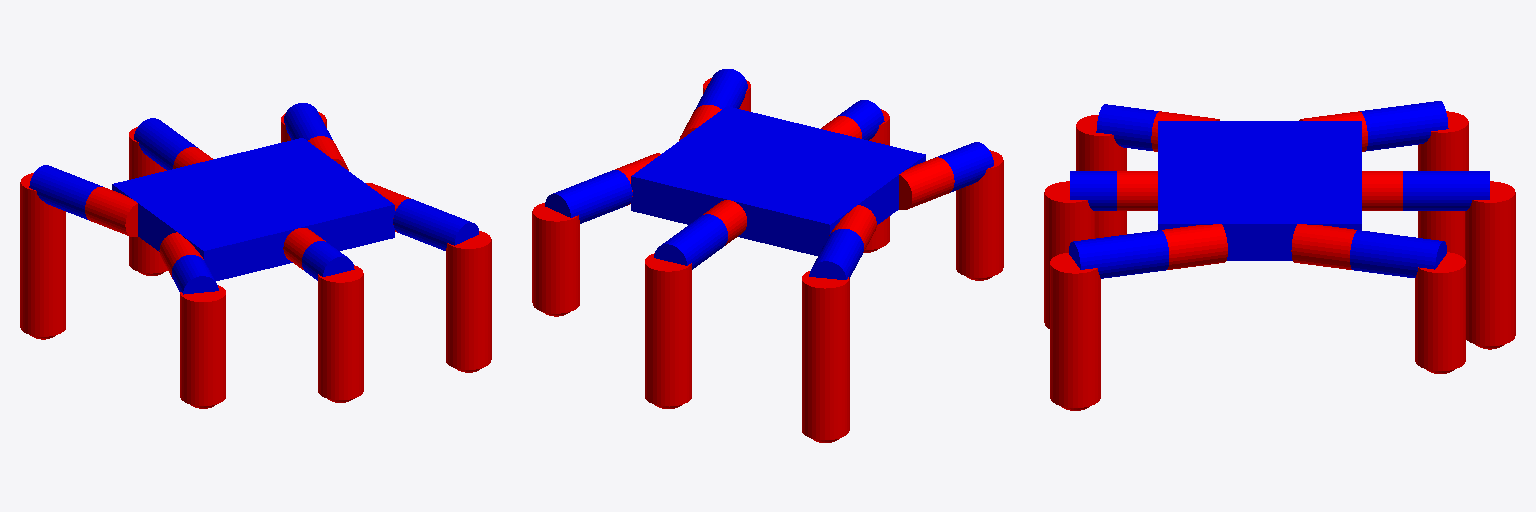
--- Facts derived from the render (not from the file) ---
Views: 3 orthographic renders of the robot side by side, from view 1: azimuth 30°, elevation 25°; view 2: azimuth 150°, elevation 25°; view 3: azimuth 270°, elevation 25°.
Model pexod with 19 links and 18 joints (18 revolute), rooted at base_link, posed every joint at zero.
Links seen in each view (by area): view 1: base_link, leg_0_3, leg_3_3, leg_4_3, leg_5_3, leg_3_2, leg_0_2, leg_0_1, leg_1_3, leg_1_2, leg_5_2, leg_4_2 (+3 smaller); view 2: base_link, leg_0_3, leg_1_3, leg_5_3, leg_2_3, leg_2_2, leg_1_2, leg_5_1, leg_0_2, leg_5_2, leg_3_2, leg_4_2 (+5 smaller); view 3: base_link, leg_1_3, leg_3_3, leg_2_3, leg_0_3, leg_3_2, leg_2_2, leg_1_2, leg_4_3, leg_0_2, leg_5_3, leg_3_1 (+7 smaller).
Link boxes in pixels (x1,y1,x2,y2): base_link: (112,138,394,280); leg_0_3: (20,173,65,339); leg_3_3: (446,231,491,372); leg_4_3: (318,265,363,402); leg_5_3: (180,285,225,408); leg_3_2: (393,199,478,250); leg_0_2: (29,165,102,220); leg_0_1: (85,187,137,236); leg_1_3: (129,127,167,275); leg_1_2: (134,118,197,170); leg_5_2: (172,255,218,294); leg_4_2: (302,241,354,280); base_link: (631,106,925,255); leg_0_3: (802,271,849,442); leg_1_3: (645,253,691,408); leg_5_3: (956,150,1003,280); leg_2_3: (532,203,579,316); leg_2_2: (545,170,632,223); leg_1_2: (654,214,727,269); leg_5_1: (899,157,954,209); leg_0_2: (809,229,863,279); leg_5_2: (935,142,993,192); leg_3_2: (694,69,747,110); leg_4_2: (837,100,884,140); base_link: (1158,121,1361,260); leg_1_3: (1465,181,1515,349); leg_3_3: (1050,253,1100,410); leg_2_3: (1415,252,1465,373); leg_0_3: (1418,111,1468,258); leg_3_2: (1069,230,1168,278); leg_2_2: (1350,230,1446,277); leg_1_2: (1403,171,1489,210); leg_4_3: (1044,181,1094,328); leg_0_2: (1360,101,1448,151); leg_5_3: (1076,115,1126,238); leg_3_1: (1162,224,1227,269).
Bounding box of the posed robot: 0.3765 × 0.4617 × 0.2074 m (x, y, z).
Geometry: primitives only (box / cylinder / sphere), no mesh files.

robot.urdf — pexod:
<?xml version="1.0" ?>
<!-- =================================================================================== -->
<!-- |    This document was autogenerated by xacro from pexod.xacro                    | -->
<!-- |    EDITING THIS FILE BY HAND IS NOT RECOMMENDED                                 | -->
<!-- =================================================================================== -->
<robot name="pexod" xmlns:xacro="http://www.ros.org/wiki/xacro">
  <!-- <xacro:include filename="$(find pexod_description)/urdf/pexod_control.xacro" /> -->
  <!-- MATERIALS -->
  <material name="Blue">
    <color rgba="0 0 1 1"/>
  </material>
  <material name="Red">
    <color rgba="1 0 0 1"/>
  </material>
  <material name="Green">
    <color rgba="0 1 0 1"/>
  </material>
  <material name="Yellow">
    <color rgba="1 1 0 1"/>
  </material>
  <material name="LightGrey">
    <color rgba="0.6 0.6 0.6 1.0"/>
  </material>
  <!-- END OF MATERIALS -->
  <!-- XACRO MACROS FOR VISUALS AND COLLISIONS -->
  <!-- END OF XACRO MACROS -->
  <!-- TORSO -->
  <link name="base_link">
    <visual>
      <origin rpy="0 0 0" xyz="0 0 0"/>
      <geometry>
        <box size="0.24 0.2 0.04"/>
      </geometry>
      <material name="Blue"/>
    </visual>
    <collision>
      <origin rpy="0 0 0" xyz="0 0 0"/>
      <geometry>
        <box size="0.24 0.2 0.04"/>
      </geometry>
    </collision>
    <inertial>
      <!-- CENTER OF MASS -->
      <origin rpy="0 0 0" xyz="0 0 0"/>
      <mass value="1.031"/>
      <!-- box inertia: 1/12*m(y^2+z^2), ... -->
      <inertia ixx="0.00357413333333" ixy="0" ixz="0" iyy="0.00508626666667" iyz="0" izz="0.00838546666667"/>
    </inertial>
  </link>
  <!-- XACRO MACRO FOR LEGS LINKS/JOINTS -->
  <!-- END OF LEG LINKS/JOINTS -->
  <joint name="body_leg_2" type="revolute">
    <parent link="base_link"/>
    <child link="leg_2_1"/>
    <limit effort="30.0" lower="-1.57079632679" upper="1.57079632679" velocity="7.0"/>
    <origin rpy="0 0 -0.3" xyz="0.11 0.04 0"/>
    <!-- <xacro:if value="${index == 5 or index == 4 or index == 3}">
                <axis xyz="0 0 1"/>
            </xacro:if>
            <xacro:if value="${index == 2 or index == 1 or index == 0}"> -->
    <axis xyz="0 0 1"/>
    <!-- </xacro:if> -->
    <dynamics damping="0.0"/>
  </joint>
  <link name="leg_2_1">
    <visual>
      <origin rpy="1.57079632679 0 0" xyz="0.01 0.03 0"/>
      <geometry>
        <cylinder length="0.06" radius="0.02"/>
      </geometry>
      <material name="Red"/>
    </visual>
    <collision>
      <origin rpy="1.57079632679 0 0" xyz="0.01 0.03 0"/>
      <geometry>
        <box size="0.02 0.02 0.06"/>
      </geometry>
    </collision>
    <inertial>
      <!-- CENTER OF MASS -->
      <origin rpy="1.57079632679 0 0" xyz="0.01 0.03 0"/>
      <mass value="0.02"/>
      <!-- box inertia: 1/12*m(y^2+z^2), ... -->
      <inertia ixx="6.66666666667e-06" ixy="0" ixz="0" iyy="6.66666666667e-06" iyz="0" izz="1.33333333333e-06"/>
    </inertial>
  </link>
  <joint name="leg_2_1_2" type="revolute">
    <parent link="leg_2_1"/>
    <child link="leg_2_2"/>
    <limit effort="30.0" lower="-0.78539816339" upper="0.78539816339" velocity="7.0"/>
    <origin rpy="0 0 0" xyz="0 0.06 0"/>
    <axis xyz="1 0 0"/>
    <dynamics damping="0.0"/>
  </joint>
  <link name="leg_2_2">
    <visual>
      <origin rpy="1.57079632679 0 0" xyz="0.01 0.043771326985 0"/>
      <geometry>
        <cylinder length="0.08754265397" radius="0.02"/>
      </geometry>
      <material name="Blue"/>
    </visual>
    <collision>
      <origin rpy="1.57079632679 0 0" xyz="0.01 0.043771326985 0"/>
      <geometry>
        <box size="0.02 0.02 0.08754265397"/>
      </geometry>
    </collision>
    <inertial>
      <!-- CENTER OF MASS -->
      <origin rpy="1.57079632679 0 0" xyz="0.01 0.043771326985 0"/>
      <mass value="0.184"/>
      <!-- box inertia: 1/12*m(y^2+z^2), ... -->
      <inertia ixx="0.000123643649383" ixy="0" ixz="0" iyy="0.000123643649383" iyz="0" izz="1.22666666667e-05"/>
    </inertial>
  </link>
  <joint name="leg_2_2_3" type="revolute">
    <parent link="leg_2_2"/>
    <child link="leg_2_3"/>
    <limit effort="30.0" lower="-0.78539816339" upper="0.78539816339" velocity="7.0"/>
    <origin rpy="-1.57079632679 0 0" xyz="0 0.08754265397 0"/>
    <axis xyz="-1 0 0"/>
    <dynamics damping="0.0"/>
  </joint>
  <link name="leg_2_3">
    <visual>
      <origin rpy="1.57079632679 0 0" xyz="0.0125 0.053026570142 0"/>
      <geometry>
        <cylinder length="0.106053140284" radius="0.025"/>
      </geometry>
      <material name="Red"/>
    </visual>
    <visual>
      <origin rpy="1.57079632679 0 0" xyz="0.0125 0.093553140284 0"/>
      <geometry>
        <sphere radius="0.025"/>
      </geometry>
      <material name="Red"/>
    </visual>
    <collision>
      <origin rpy="1.57079632679 0 0" xyz="0.0125 0.053026570142 0"/>
      <geometry>
        <box size="0.025 0.025 0.106053140284"/>
      </geometry>
    </collision>
    <collision>
      <origin rpy="1.57079632679 0 0" xyz="0.0125 0.093553140284 0"/>
      <geometry>
        <sphere radius="0.025"/>
      </geometry>
      <material name="Red"/>
    </collision>
    <inertial>
      <!-- CENTER OF MASS -->
      <origin rpy="1.57079632679 0 0" xyz="0.0125 0.053026570142 0"/>
      <mass value="0.04"/>
      <!-- box inertia: 1/12*m(y^2+z^2), ... -->
      <inertia ixx="3.9574228547e-05" ixy="0" ixz="0" iyy="3.9574228547e-05" iyz="0" izz="4.16666666667e-06"/>
    </inertial>
  </link>
  <joint name="body_leg_3" type="revolute">
    <parent link="base_link"/>
    <child link="leg_3_1"/>
    <limit effort="30.0" lower="-1.57079632679" upper="1.57079632679" velocity="7.0"/>
    <origin rpy="0 0 0.3" xyz="0.11 -0.04 0"/>
    <!-- <xacro:if value="${index == 5 or index == 4 or index == 3}">
                <axis xyz="0 0 1"/>
            </xacro:if>
            <xacro:if value="${index == 2 or index == 1 or index == 0}"> -->
    <axis xyz="0 0 1"/>
    <!-- </xacro:if> -->
    <dynamics damping="0.0"/>
  </joint>
  <link name="leg_3_1">
    <visual>
      <origin rpy="1.57079632679 0 0" xyz="0.01 -0.03 0"/>
      <geometry>
        <cylinder length="0.06" radius="0.02"/>
      </geometry>
      <material name="Red"/>
    </visual>
    <collision>
      <origin rpy="1.57079632679 0 0" xyz="0.01 -0.03 0"/>
      <geometry>
        <box size="0.02 0.02 0.06"/>
      </geometry>
    </collision>
    <inertial>
      <!-- CENTER OF MASS -->
      <origin rpy="1.57079632679 0 0" xyz="0.01 -0.03 0"/>
      <mass value="0.02"/>
      <!-- box inertia: 1/12*m(y^2+z^2), ... -->
      <inertia ixx="6.66666666667e-06" ixy="0" ixz="0" iyy="6.66666666667e-06" iyz="0" izz="1.33333333333e-06"/>
    </inertial>
  </link>
  <joint name="leg_3_1_2" type="revolute">
    <parent link="leg_3_1"/>
    <child link="leg_3_2"/>
    <limit effort="30.0" lower="-0.78539816339" upper="0.78539816339" velocity="7.0"/>
    <origin rpy="0 0 0" xyz="0 -0.06 0"/>
    <axis xyz="-1 0 0"/>
    <dynamics damping="0.0"/>
  </joint>
  <link name="leg_3_2">
    <visual>
      <origin rpy="1.57079632679 0 0" xyz="0.01 -0.0454777377633 0"/>
      <geometry>
        <cylinder length="0.0909554755265" radius="0.02"/>
      </geometry>
      <material name="Blue"/>
    </visual>
    <collision>
      <origin rpy="1.57079632679 0 0" xyz="0.01 -0.0454777377633 0"/>
      <geometry>
        <box size="0.02 0.02 0.0909554755265"/>
      </geometry>
    </collision>
    <inertial>
      <!-- CENTER OF MASS -->
      <origin rpy="1.57079632679 0 0" xyz="0.01 -0.0454777377633 0"/>
      <mass value="0.184"/>
      <!-- box inertia: 1/12*m(y^2+z^2), ... -->
      <inertia ixx="0.0001329844441" ixy="0" ixz="0" iyy="0.0001329844441" iyz="0" izz="1.22666666667e-05"/>
    </inertial>
  </link>
  <joint name="leg_3_2_3" type="revolute">
    <parent link="leg_3_2"/>
    <child link="leg_3_3"/>
    <limit effort="30.0" lower="-0.78539816339" upper="0.78539816339" velocity="7.0"/>
    <origin rpy="1.57079632679 0 0" xyz="0 -0.0909554755265 0"/>
    <axis xyz="1 0 0"/>
    <dynamics damping="0.0"/>
  </joint>
  <link name="leg_3_3">
    <visual>
      <origin rpy="1.57079632679 0 0" xyz="0.0125 -0.0727499873925 0"/>
      <geometry>
        <cylinder length="0.145499974785" radius="0.025"/>
      </geometry>
      <material name="Red"/>
    </visual>
    <visual>
      <origin rpy="1.57079632679 0 0" xyz="0.0125 -0.132999974785 0"/>
      <geometry>
        <sphere radius="0.025"/>
      </geometry>
      <material name="Red"/>
    </visual>
    <collision>
      <origin rpy="1.57079632679 0 0" xyz="0.0125 -0.0727499873925 0"/>
      <geometry>
        <box size="0.025 0.025 0.145499974785"/>
      </geometry>
    </collision>
    <collision>
      <origin rpy="1.57079632679 0 0" xyz="0.0125 -0.132999974785 0"/>
      <geometry>
        <sphere radius="0.025"/>
      </geometry>
      <material name="Red"/>
    </collision>
    <inertial>
      <!-- CENTER OF MASS -->
      <origin rpy="1.57079632679 0 0" xyz="0.0125 -0.0727499873925 0"/>
      <mass value="0.04"/>
      <!-- box inertia: 1/12*m(y^2+z^2), ... -->
      <inertia ixx="7.26508088748e-05" ixy="0" ixz="0" iyy="7.26508088748e-05" iyz="0" izz="4.16666666667e-06"/>
    </inertial>
  </link>
  <joint name="body_leg_0" type="revolute">
    <parent link="base_link"/>
    <child link="leg_0_1"/>
    <limit effort="30.0" lower="-1.57079632679" upper="1.57079632679" velocity="7.0"/>
    <origin rpy="0 0 0.3" xyz="-0.13 0.04 0"/>
    <!-- <xacro:if value="${index == 5 or index == 4 or index == 3}">
                <axis xyz="0 0 1"/>
            </xacro:if>
            <xacro:if value="${index == 2 or index == 1 or index == 0}"> -->
    <axis xyz="0 0 1"/>
    <!-- </xacro:if> -->
    <dynamics damping="0.0"/>
  </joint>
  <link name="leg_0_1">
    <visual>
      <origin rpy="1.57079632679 0 0" xyz="0.01 0.03 0"/>
      <geometry>
        <cylinder length="0.06" radius="0.02"/>
      </geometry>
      <material name="Red"/>
    </visual>
    <collision>
      <origin rpy="1.57079632679 0 0" xyz="0.01 0.03 0"/>
      <geometry>
        <box size="0.02 0.02 0.06"/>
      </geometry>
    </collision>
    <inertial>
      <!-- CENTER OF MASS -->
      <origin rpy="1.57079632679 0 0" xyz="0.01 0.03 0"/>
      <mass value="0.02"/>
      <!-- box inertia: 1/12*m(y^2+z^2), ... -->
      <inertia ixx="6.66666666667e-06" ixy="0" ixz="0" iyy="6.66666666667e-06" iyz="0" izz="1.33333333333e-06"/>
    </inertial>
  </link>
  <joint name="leg_0_1_2" type="revolute">
    <parent link="leg_0_1"/>
    <child link="leg_0_2"/>
    <limit effort="30.0" lower="-0.78539816339" upper="0.78539816339" velocity="7.0"/>
    <origin rpy="0 0 0" xyz="0 0.06 0"/>
    <axis xyz="1 0 0"/>
    <dynamics damping="0.0"/>
  </joint>
  <link name="leg_0_2">
    <visual>
      <origin rpy="1.57079632679 0 0" xyz="0.01 0.0412991480834 0"/>
      <geometry>
        <cylinder length="0.0825982961667" radius="0.02"/>
      </geometry>
      <material name="Blue"/>
    </visual>
    <collision>
      <origin rpy="1.57079632679 0 0" xyz="0.01 0.0412991480834 0"/>
      <geometry>
        <box size="0.02 0.02 0.0825982961667"/>
      </geometry>
    </collision>
    <inertial>
      <!-- CENTER OF MASS -->
      <origin rpy="1.57079632679 0 0" xyz="0.01 0.0412991480834 0"/>
      <mass value="0.184"/>
      <!-- box inertia: 1/12*m(y^2+z^2), ... -->
      <inertia ixx="0.000110744670788" ixy="0" ixz="0" iyy="0.000110744670788" iyz="0" izz="1.22666666667e-05"/>
    </inertial>
  </link>
  <joint name="leg_0_2_3" type="revolute">
    <parent link="leg_0_2"/>
    <child link="leg_0_3"/>
    <limit effort="30.0" lower="-0.78539816339" upper="0.78539816339" velocity="7.0"/>
    <origin rpy="-1.57079632679 0 0" xyz="0 0.0825982961667 0"/>
    <axis xyz="-1 0 0"/>
    <dynamics damping="0.0"/>
  </joint>
  <link name="leg_0_3">
    <visual>
      <origin rpy="1.57079632679 0 0" xyz="0.0125 0.0874332761605 0"/>
      <geometry>
        <cylinder length="0.174866552321" radius="0.025"/>
      </geometry>
      <material name="Red"/>
    </visual>
    <visual>
      <origin rpy="1.57079632679 0 0" xyz="0.0125 0.162366552321 0"/>
      <geometry>
        <sphere radius="0.025"/>
      </geometry>
      <material name="Red"/>
    </visual>
    <collision>
      <origin rpy="1.57079632679 0 0" xyz="0.0125 0.0874332761605 0"/>
      <geometry>
        <box size="0.025 0.025 0.174866552321"/>
      </geometry>
    </collision>
    <collision>
      <origin rpy="1.57079632679 0 0" xyz="0.0125 0.162366552321 0"/>
      <geometry>
        <sphere radius="0.025"/>
      </geometry>
      <material name="Red"/>
    </collision>
    <inertial>
      <!-- CENTER OF MASS -->
      <origin rpy="1.57079632679 0 0" xyz="0.0125 0.0874332761605 0"/>
      <mass value="0.04"/>
      <!-- box inertia: 1/12*m(y^2+z^2), ... -->
      <inertia ixx="0.000104011037069" ixy="0" ixz="0" iyy="0.000104011037069" iyz="0" izz="4.16666666667e-06"/>
    </inertial>
  </link>
  <joint name="body_leg_5" type="revolute">
    <parent link="base_link"/>
    <child link="leg_5_1"/>
    <limit effort="30.0" lower="-1.57079632679" upper="1.57079632679" velocity="7.0"/>
    <origin rpy="0 0 -0.3" xyz="-0.13 -0.04 0"/>
    <!-- <xacro:if value="${index == 5 or index == 4 or index == 3}">
                <axis xyz="0 0 1"/>
            </xacro:if>
            <xacro:if value="${index == 2 or index == 1 or index == 0}"> -->
    <axis xyz="0 0 1"/>
    <!-- </xacro:if> -->
    <dynamics damping="0.0"/>
  </joint>
  <link name="leg_5_1">
    <visual>
      <origin rpy="1.57079632679 0 0" xyz="0.01 -0.03 0"/>
      <geometry>
        <cylinder length="0.06" radius="0.02"/>
      </geometry>
      <material name="Red"/>
    </visual>
    <collision>
      <origin rpy="1.57079632679 0 0" xyz="0.01 -0.03 0"/>
      <geometry>
        <box size="0.02 0.02 0.06"/>
      </geometry>
    </collision>
    <inertial>
      <!-- CENTER OF MASS -->
      <origin rpy="1.57079632679 0 0" xyz="0.01 -0.03 0"/>
      <mass value="0.02"/>
      <!-- box inertia: 1/12*m(y^2+z^2), ... -->
      <inertia ixx="6.66666666667e-06" ixy="0" ixz="0" iyy="6.66666666667e-06" iyz="0" izz="1.33333333333e-06"/>
    </inertial>
  </link>
  <joint name="leg_5_1_2" type="revolute">
    <parent link="leg_5_1"/>
    <child link="leg_5_2"/>
    <limit effort="30.0" lower="-0.78539816339" upper="0.78539816339" velocity="7.0"/>
    <origin rpy="0 0 0" xyz="0 -0.06 0"/>
    <axis xyz="-1 0 0"/>
    <dynamics damping="0.0"/>
  </joint>
  <link name="leg_5_2">
    <visual>
      <origin rpy="1.57079632679 0 0" xyz="0.01 -0.0281787201831 0"/>
      <geometry>
        <cylinder length="0.0563574403662" radius="0.02"/>
      </geometry>
      <material name="Blue"/>
    </visual>
    <collision>
      <origin rpy="1.57079632679 0 0" xyz="0.01 -0.0281787201831 0"/>
      <geometry>
        <box size="0.02 0.02 0.0563574403662"/>
      </geometry>
    </collision>
    <inertial>
      <!-- CENTER OF MASS -->
      <origin rpy="1.57079632679 0 0" xyz="0.01 -0.0281787201831 0"/>
      <mass value="0.184"/>
      <!-- box inertia: 1/12*m(y^2+z^2), ... -->
      <inertia ixx="5.48344699643e-05" ixy="0" ixz="0" iyy="5.48344699643e-05" iyz="0" izz="1.22666666667e-05"/>
    </inertial>
  </link>
  <joint name="leg_5_2_3" type="revolute">
    <parent link="leg_5_2"/>
    <child link="leg_5_3"/>
    <limit effort="30.0" lower="-0.78539816339" upper="0.78539816339" velocity="7.0"/>
    <origin rpy="1.57079632679 0 0" xyz="0 -0.0563574403662 0"/>
    <axis xyz="1 0 0"/>
    <dynamics damping="0.0"/>
  </joint>
  <link name="leg_5_3">
    <visual>
      <origin rpy="1.57079632679 0 0" xyz="0.0125 -0.062460561118 0"/>
      <geometry>
        <cylinder length="0.124921122236" radius="0.025"/>
      </geometry>
      <material name="Red"/>
    </visual>
    <visual>
      <origin rpy="1.57079632679 0 0" xyz="0.0125 -0.112421122236 0"/>
      <geometry>
        <sphere radius="0.025"/>
      </geometry>
      <material name="Red"/>
    </visual>
    <collision>
      <origin rpy="1.57079632679 0 0" xyz="0.0125 -0.062460561118 0"/>
      <geometry>
        <box size="0.025 0.025 0.124921122236"/>
      </geometry>
    </collision>
    <collision>
      <origin rpy="1.57079632679 0 0" xyz="0.0125 -0.112421122236 0"/>
      <geometry>
        <sphere radius="0.025"/>
      </geometry>
      <material name="Red"/>
    </collision>
    <inertial>
      <!-- CENTER OF MASS -->
      <origin rpy="1.57079632679 0 0" xyz="0.0125 -0.062460561118 0"/>
      <mass value="0.04"/>
      <!-- box inertia: 1/12*m(y^2+z^2), ... -->
      <inertia ixx="5.41009559357e-05" ixy="0" ixz="0" iyy="5.41009559357e-05" iyz="0" izz="4.16666666667e-06"/>
    </inertial>
  </link>
  <joint name="body_leg_1" type="revolute">
    <parent link="base_link"/>
    <child link="leg_1_1"/>
    <limit effort="30.0" lower="-1.57079632679" upper="1.57079632679" velocity="7.0"/>
    <origin rpy="0 0 0" xyz="-0.01 0.08 0"/>
    <!-- <xacro:if value="${index == 5 or index == 4 or index == 3}">
                <axis xyz="0 0 1"/>
            </xacro:if>
            <xacro:if value="${index == 2 or index == 1 or index == 0}"> -->
    <axis xyz="0 0 1"/>
    <!-- </xacro:if> -->
    <dynamics damping="0.0"/>
  </joint>
  <link name="leg_1_1">
    <visual>
      <origin rpy="1.57079632679 0 0" xyz="0.01 0.03 0"/>
      <geometry>
        <cylinder length="0.06" radius="0.02"/>
      </geometry>
      <material name="Red"/>
    </visual>
    <collision>
      <origin rpy="1.57079632679 0 0" xyz="0.01 0.03 0"/>
      <geometry>
        <box size="0.02 0.02 0.06"/>
      </geometry>
    </collision>
    <inertial>
      <!-- CENTER OF MASS -->
      <origin rpy="1.57079632679 0 0" xyz="0.01 0.03 0"/>
      <mass value="0.02"/>
      <!-- box inertia: 1/12*m(y^2+z^2), ... -->
      <inertia ixx="6.66666666667e-06" ixy="0" ixz="0" iyy="6.66666666667e-06" iyz="0" izz="1.33333333333e-06"/>
    </inertial>
  </link>
  <joint name="leg_1_1_2" type="revolute">
    <parent link="leg_1_1"/>
    <child link="leg_1_2"/>
    <limit effort="30.0" lower="-0.78539816339" upper="0.78539816339" velocity="7.0"/>
    <origin rpy="0 0 0" xyz="0 0.06 0"/>
    <axis xyz="1 0 0"/>
    <dynamics damping="0.0"/>
  </joint>
  <link name="leg_1_2">
    <visual>
      <origin rpy="1.57079632679 0 0" xyz="0.01 0.0428769458217 0"/>
      <geometry>
        <cylinder length="0.0857538916434" radius="0.02"/>
      </geometry>
      <material name="Blue"/>
    </visual>
    <collision>
      <origin rpy="1.57079632679 0 0" xyz="0.01 0.0428769458217 0"/>
      <geometry>
        <box size="0.02 0.02 0.0857538916434"/>
      </geometry>
    </collision>
    <inertial>
      <!-- CENTER OF MASS -->
      <origin rpy="1.57079632679 0 0" xyz="0.01 0.0428769458217 0"/>
      <mass value="0.184"/>
      <!-- box inertia: 1/12*m(y^2+z^2), ... -->
      <inertia ixx="0.000118890525624" ixy="0" ixz="0" iyy="0.000118890525624" iyz="0" izz="1.22666666667e-05"/>
    </inertial>
  </link>
  <joint name="leg_1_2_3" type="revolute">
    <parent link="leg_1_2"/>
    <child link="leg_1_3"/>
    <limit effort="30.0" lower="-0.78539816339" upper="0.78539816339" velocity="7.0"/>
    <origin rpy="-1.57079632679 0 0" xyz="0 0.0857538916434 0"/>
    <axis xyz="-1 0 0"/>
    <dynamics damping="0.0"/>
  </joint>
  <link name="leg_1_3">
    <visual>
      <origin rpy="1.57079632679 0 0" xyz="0.0125 0.0776279560145 0"/>
      <geometry>
        <cylinder length="0.155255912029" radius="0.025"/>
      </geometry>
      <material name="Red"/>
    </visual>
    <visual>
      <origin rpy="1.57079632679 0 0" xyz="0.0125 0.142755912029 0"/>
      <geometry>
        <sphere radius="0.025"/>
      </geometry>
      <material name="Red"/>
    </visual>
    <collision>
      <origin rpy="1.57079632679 0 0" xyz="0.0125 0.0776279560145 0"/>
      <geometry>
        <box size="0.025 0.025 0.155255912029"/>
      </geometry>
    </collision>
    <collision>
      <origin rpy="1.57079632679 0 0" xyz="0.0125 0.142755912029 0"/>
      <geometry>
        <sphere radius="0.025"/>
      </geometry>
      <material name="Red"/>
    </collision>
    <inertial>
      <!-- CENTER OF MASS -->
      <origin rpy="1.57079632679 0 0" xyz="0.0125 0.0776279560145 0"/>
      <mass value="0.04"/>
      <!-- box inertia: 1/12*m(y^2+z^2), ... -->
      <inertia ixx="8.24313273999e-05" ixy="0" ixz="0" iyy="8.24313273999e-05" iyz="0" izz="4.16666666667e-06"/>
    </inertial>
  </link>
  <joint name="body_leg_4" type="revolute">
    <parent link="base_link"/>
    <child link="leg_4_1"/>
    <limit effort="30.0" lower="-1.57079632679" upper="1.57079632679" velocity="7.0"/>
    <origin rpy="0 0 0" xyz="-0.01 -0.08 0"/>
    <!-- <xacro:if value="${index == 5 or index == 4 or index == 3}">
                <axis xyz="0 0 1"/>
            </xacro:if>
            <xacro:if value="${index == 2 or index == 1 or index == 0}"> -->
    <axis xyz="0 0 1"/>
    <!-- </xacro:if> -->
    <dynamics damping="0.0"/>
  </joint>
  <link name="leg_4_1">
    <visual>
      <origin rpy="1.57079632679 0 0" xyz="0.01 -0.03 0"/>
      <geometry>
        <cylinder length="0.06" radius="0.02"/>
      </geometry>
      <material name="Red"/>
    </visual>
    <collision>
      <origin rpy="1.57079632679 0 0" xyz="0.01 -0.03 0"/>
      <geometry>
        <box size="0.02 0.02 0.06"/>
      </geometry>
    </collision>
    <inertial>
      <!-- CENTER OF MASS -->
      <origin rpy="1.57079632679 0 0" xyz="0.01 -0.03 0"/>
      <mass value="0.02"/>
      <!-- box inertia: 1/12*m(y^2+z^2), ... -->
      <inertia ixx="6.66666666667e-06" ixy="0" ixz="0" iyy="6.66666666667e-06" iyz="0" izz="1.33333333333e-06"/>
    </inertial>
  </link>
  <joint name="leg_4_1_2" type="revolute">
    <parent link="leg_4_1"/>
    <child link="leg_4_2"/>
    <limit effort="30.0" lower="-0.78539816339" upper="0.78539816339" velocity="7.0"/>
    <origin rpy="0 0 0" xyz="0 -0.06 0"/>
    <axis xyz="-1 0 0"/>
    <dynamics damping="0.0"/>
  </joint>
  <link name="leg_4_2">
    <visual>
      <origin rpy="1.57079632679 0 0" xyz="0.01 -0.0229813019627 0"/>
      <geometry>
        <cylinder length="0.0459626039254" radius="0.02"/>
      </geometry>
      <material name="Blue"/>
    </visual>
    <collision>
      <origin rpy="1.57079632679 0 0" xyz="0.01 -0.0229813019627 0"/>
      <geometry>
        <box size="0.02 0.02 0.0459626039254"/>
      </geometry>
    </collision>
    <inertial>
      <!-- CENTER OF MASS -->
      <origin rpy="1.57079632679 0 0" xyz="0.01 -0.0229813019627 0"/>
      <mass value="0.184"/>
      <!-- box inertia: 1/12*m(y^2+z^2), ... -->
      <inertia ixx="3.85259347139e-05" ixy="0" ixz="0" iyy="3.85259347139e-05" iyz="0" izz="1.22666666667e-05"/>
    </inertial>
  </link>
  <joint name="leg_4_2_3" type="revolute">
    <parent link="leg_4_2"/>
    <child link="leg_4_3"/>
    <limit effort="30.0" lower="-0.78539816339" upper="0.78539816339" velocity="7.0"/>
    <origin rpy="1.57079632679 0 0" xyz="0 -0.0459626039254 0"/>
    <axis xyz="1 0 0"/>
    <dynamics damping="0.0"/>
  </joint>
  <link name="leg_4_3">
    <visual>
      <origin rpy="1.57079632679 0 0" xyz="0.0125 -0.070752027016 0"/>
      <geometry>
        <cylinder length="0.141504054032" radius="0.025"/>
      </geometry>
      <material name="Red"/>
    </visual>
    <visual>
      <origin rpy="1.57079632679 0 0" xyz="0.0125 -0.129004054032 0"/>
      <geometry>
        <sphere radius="0.025"/>
      </geometry>
      <material name="Red"/>
    </visual>
    <collision>
      <origin rpy="1.57079632679 0 0" xyz="0.0125 -0.070752027016 0"/>
      <geometry>
        <box size="0.025 0.025 0.141504054032"/>
      </geometry>
    </collision>
    <collision>
      <origin rpy="1.57079632679 0 0" xyz="0.0125 -0.129004054032 0"/>
      <geometry>
        <sphere radius="0.025"/>
      </geometry>
      <material name="Red"/>
    </collision>
    <inertial>
      <!-- CENTER OF MASS -->
      <origin rpy="1.57079632679 0 0" xyz="0.0125 -0.070752027016 0"/>
      <mass value="0.04"/>
      <!-- box inertia: 1/12*m(y^2+z^2), ... -->
      <inertia ixx="6.8827991025e-05" ixy="0" ixz="0" iyy="6.8827991025e-05" iyz="0" izz="4.16666666667e-06"/>
    </inertial>
  </link>
  <!-- END OF LEG LINKS/JOINTS -->
</robot>
